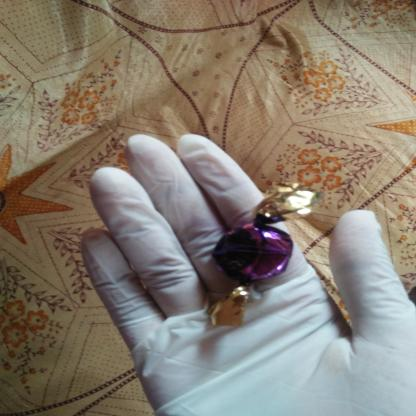gloved_hand: (80, 133, 412, 416)
